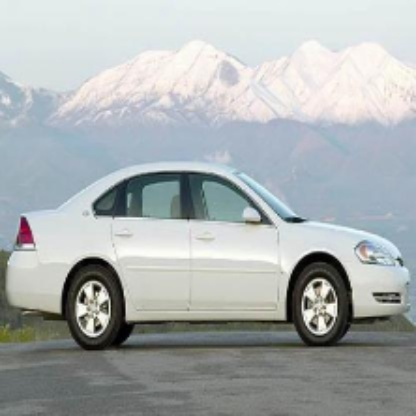Vehicle: (4, 158, 414, 356)
